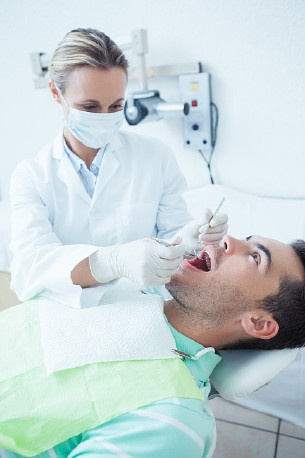Mask: (62, 89, 124, 151)
